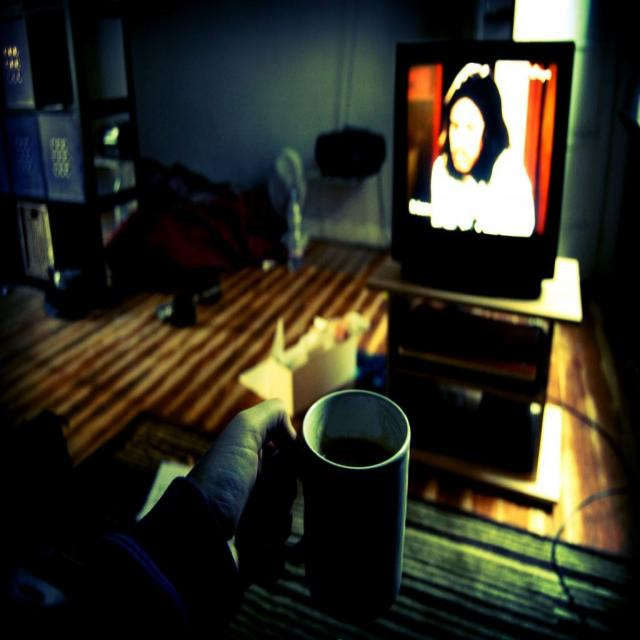Tea: (319, 438, 394, 466)
